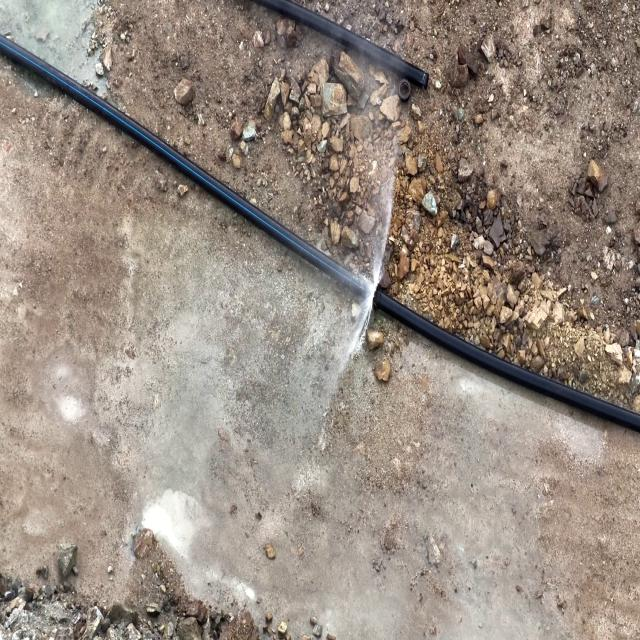leak: (322, 107, 400, 433)
